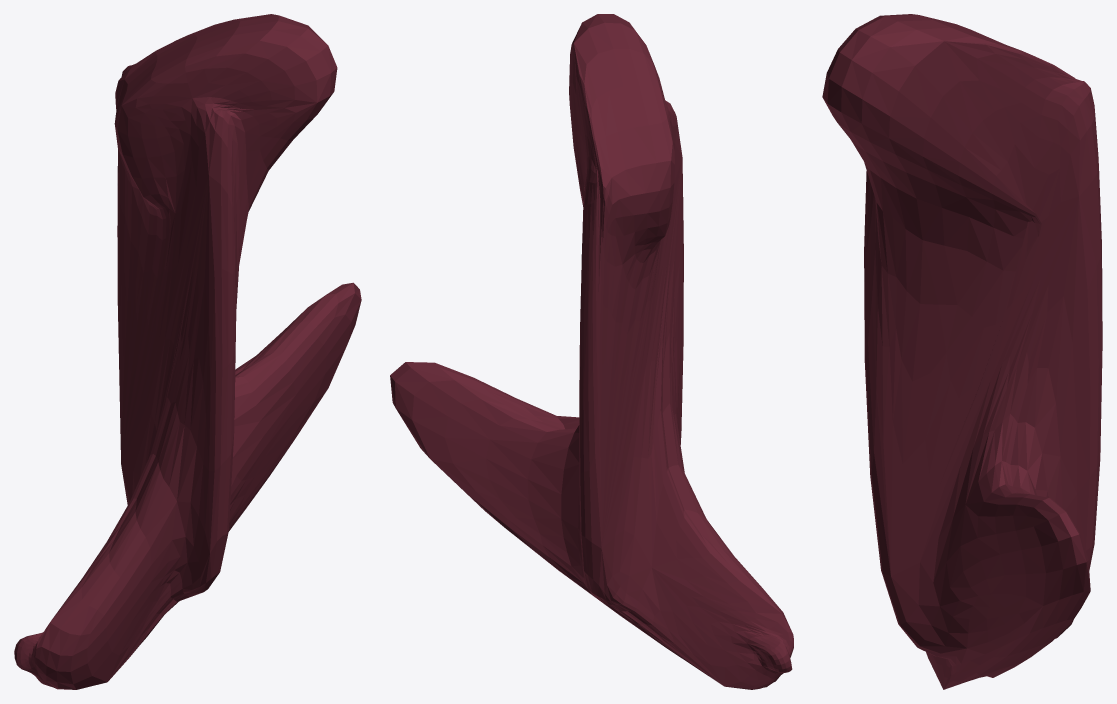
The picture shows the model from 3 angles, left to right: view 1: azimuth 30°, elevation 25°; view 2: azimuth 150°, elevation 25°; view 3: azimuth 270°, elevation 25°; orthographic projection. The views are drawn at different scales.
Visible parts, largest first — view 1: 006_Cube.035; view 2: 006_Cube.035; view 3: 006_Cube.035.
Boxes of the visible parts, x1,y1,x2,y2 form: 006_Cube.035: (14,14,361,689); 006_Cube.035: (390,14,793,689); 006_Cube.035: (822,14,1102,689).
Size of the model in its own units: 9.84 by 15.61 by 5.24.
